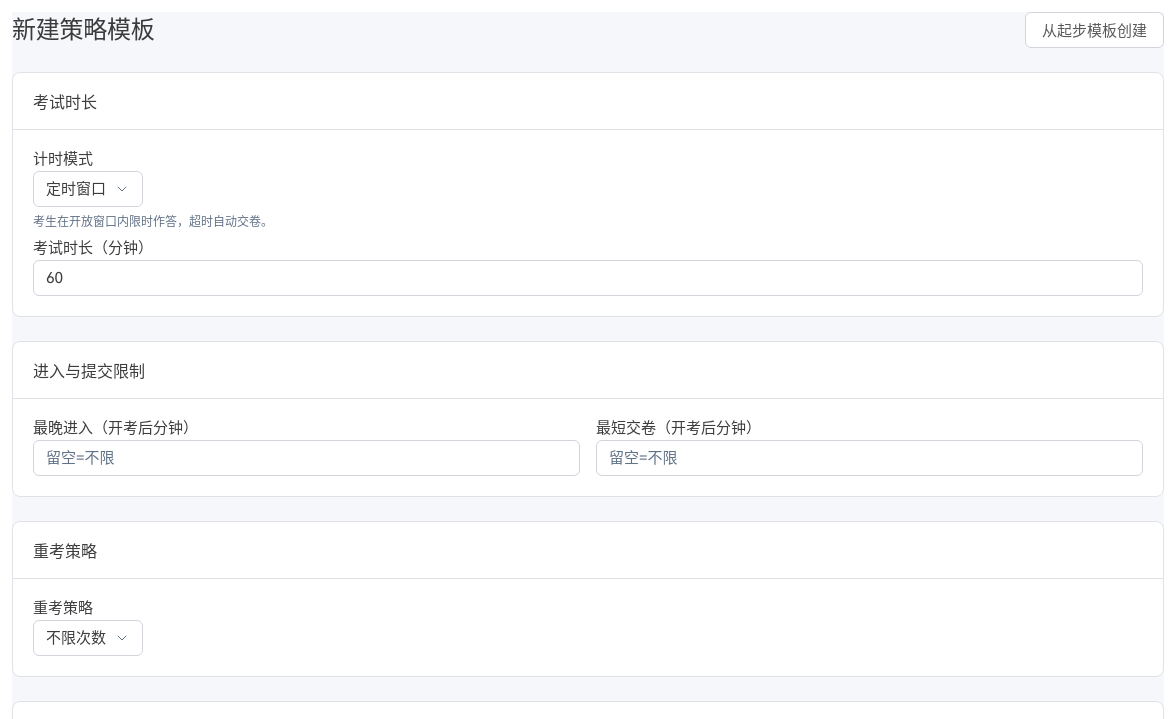
Test: ExamProfileEditPage — conditional fields › shows maxAttempts when retakePolicy becomes max_attempts
The width and height of the screenshot is (1176, 719).
# Open the retake policy select (Radix combobox).
Click the dropdown named "重考策略". click: (88, 638)
box: [33,620,143,656]
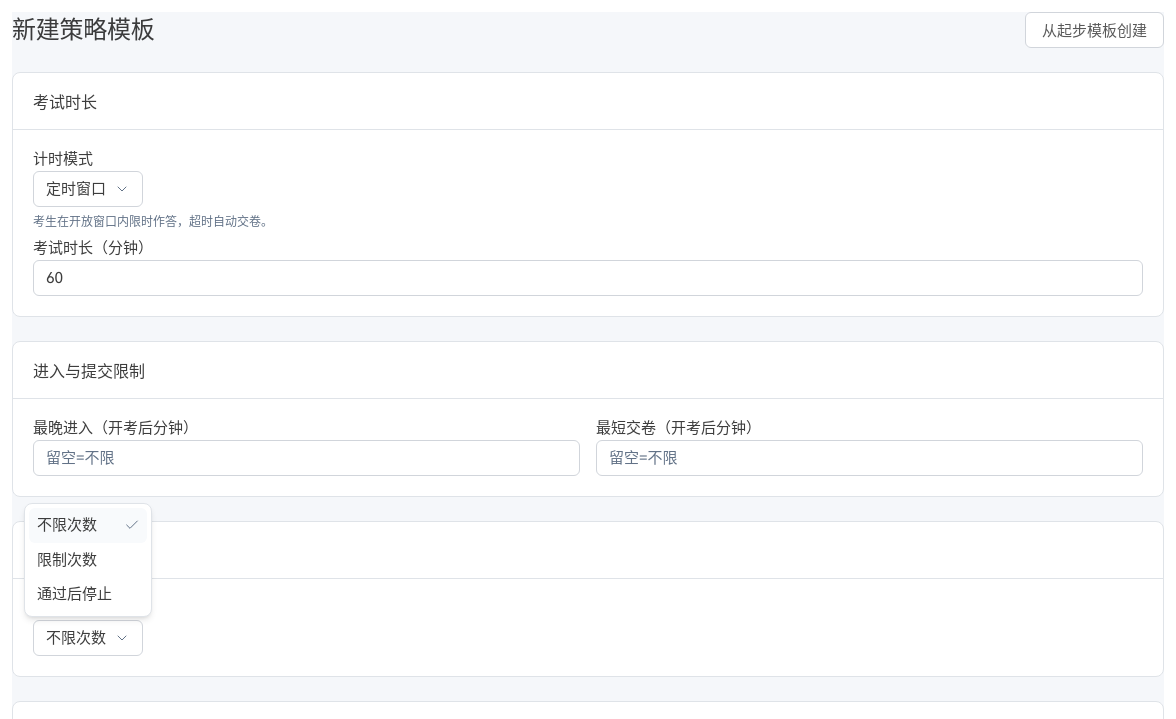
Click the option "限制次数". click: (67, 560)
box: [37,550,97,568]
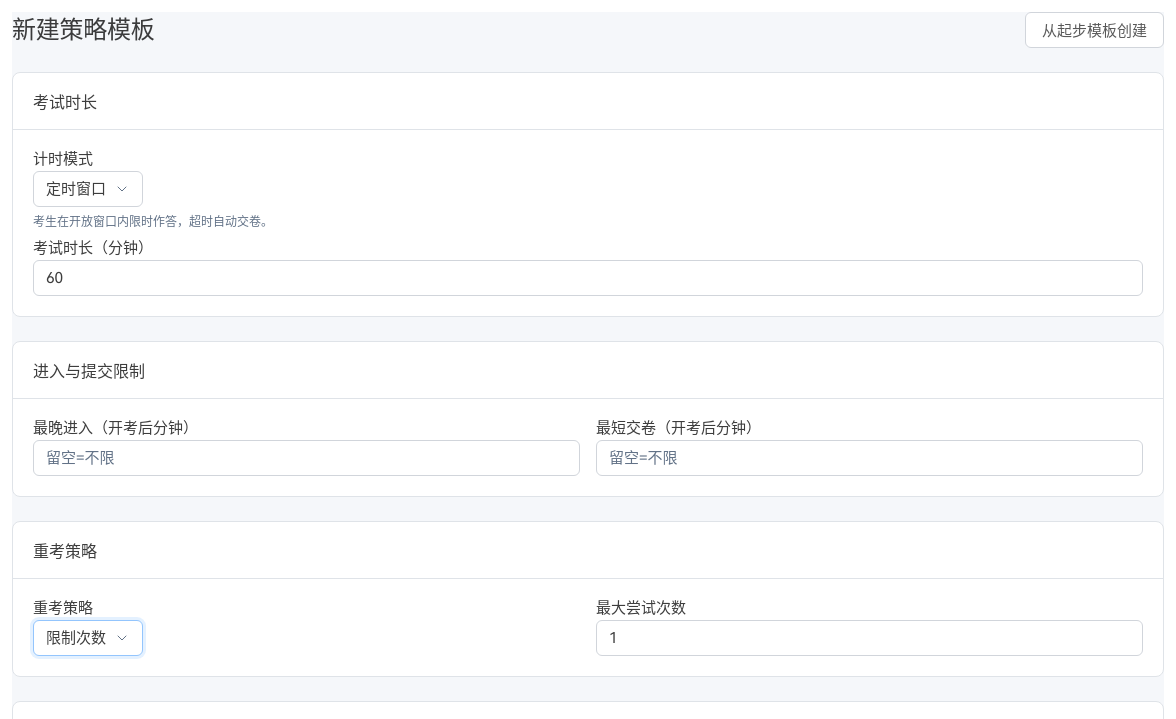
Expected: the number field labelled "最大尝试次数" is shown, [596,620,1143,656]
